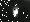person: (13, 7, 20, 19)
